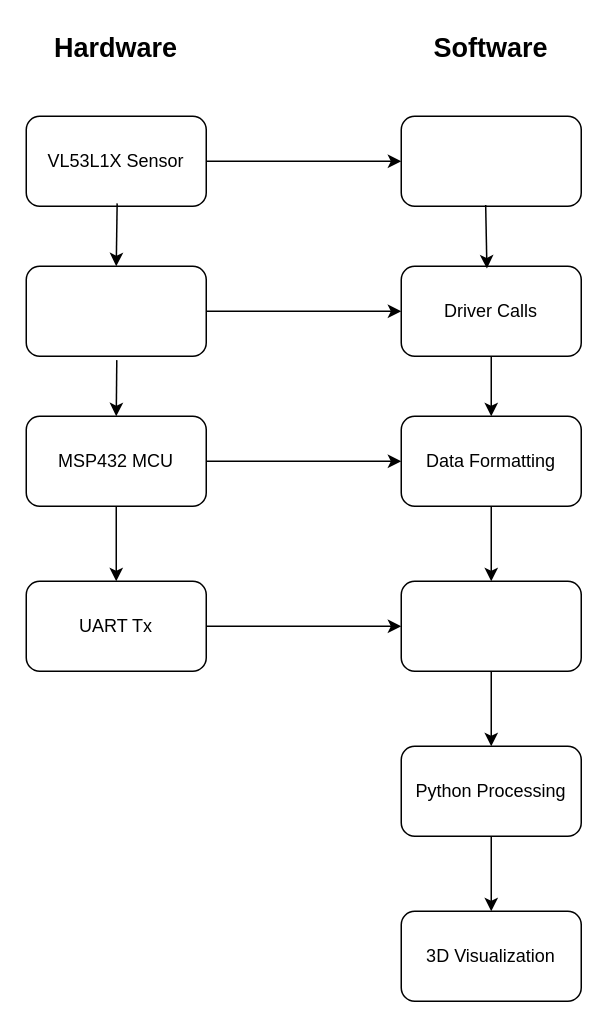
The diagram is 608 pixels wide and 1028 high, and some of its shapes have lost their labels. The shapes that lost their labels are listed below. From the top down, each one's centre as x and y in pixels, then its label:
At point (490, 160): "VL53L1X I2C API".
At point (115, 310): "I2C Bus".
At point (490, 625): "Serial Parsing (PC)".
